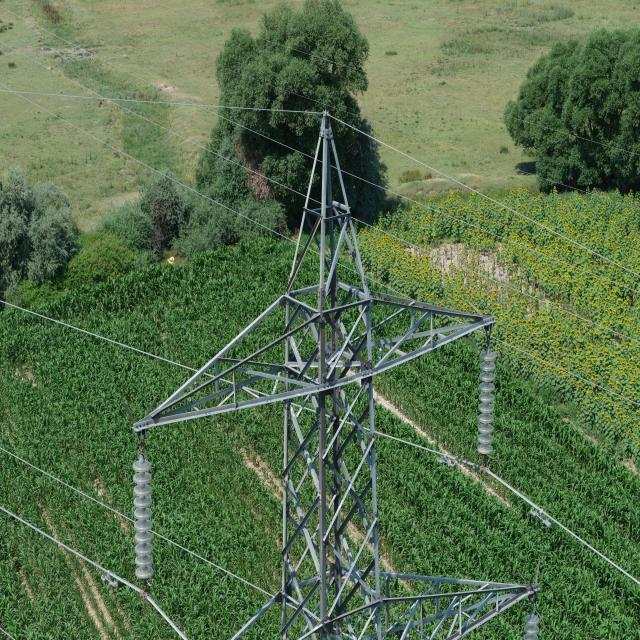direk: (145, 109, 485, 640)
tree: (224, 9, 388, 212), (504, 31, 640, 187), (2, 178, 74, 293), (134, 186, 235, 254)
